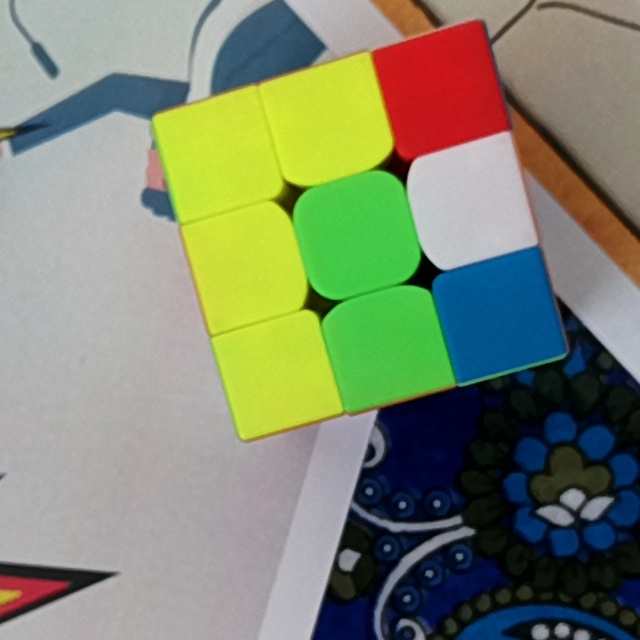tile: (395, 46, 489, 133), (308, 191, 401, 277), (282, 80, 374, 165), (429, 156, 516, 244), (456, 272, 544, 356), (205, 222, 290, 306), (343, 304, 430, 386), (175, 112, 260, 194), (235, 330, 318, 413)
